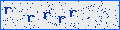r: (68, 9, 77, 18), (3, 6, 12, 14), (43, 11, 51, 19), (27, 14, 35, 22), (58, 16, 66, 23)
